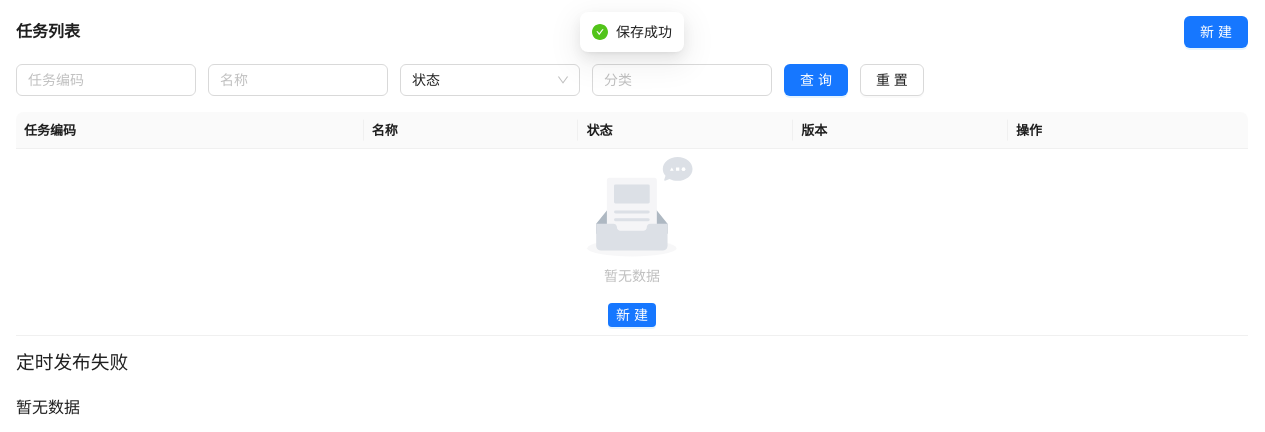
Test: TaskDefinitionPage list request lifecycle › ignores stale list results when a newer load wins
Click the button with test id "task-query". click: (816, 80)
box: [784,64,848,96]
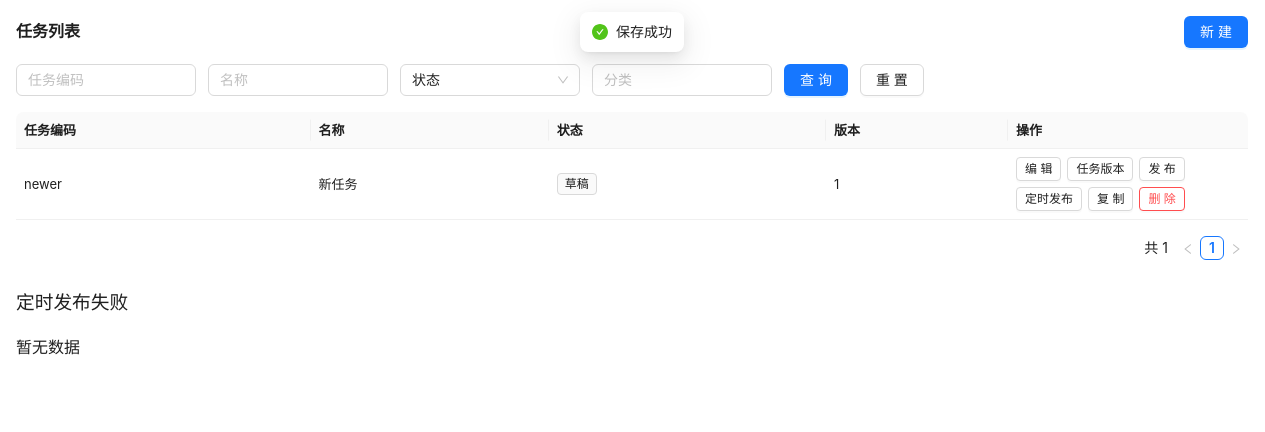
Check: the element with test id "task-table" shows "newer", box [24,176,62,192]
